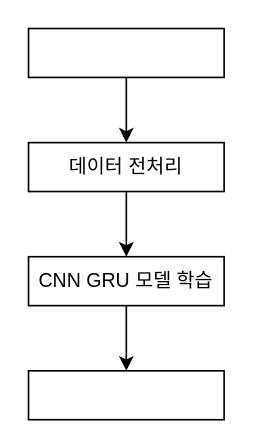
The diagram is 253 pixels wide and 448 high, and some of its shapes have lost their labels. Here are the shapes that lost their labels. From the top down, the box of each, then its label:
(27, 27, 224, 77): 데이터 수집
(27, 369, 224, 420): 예측
